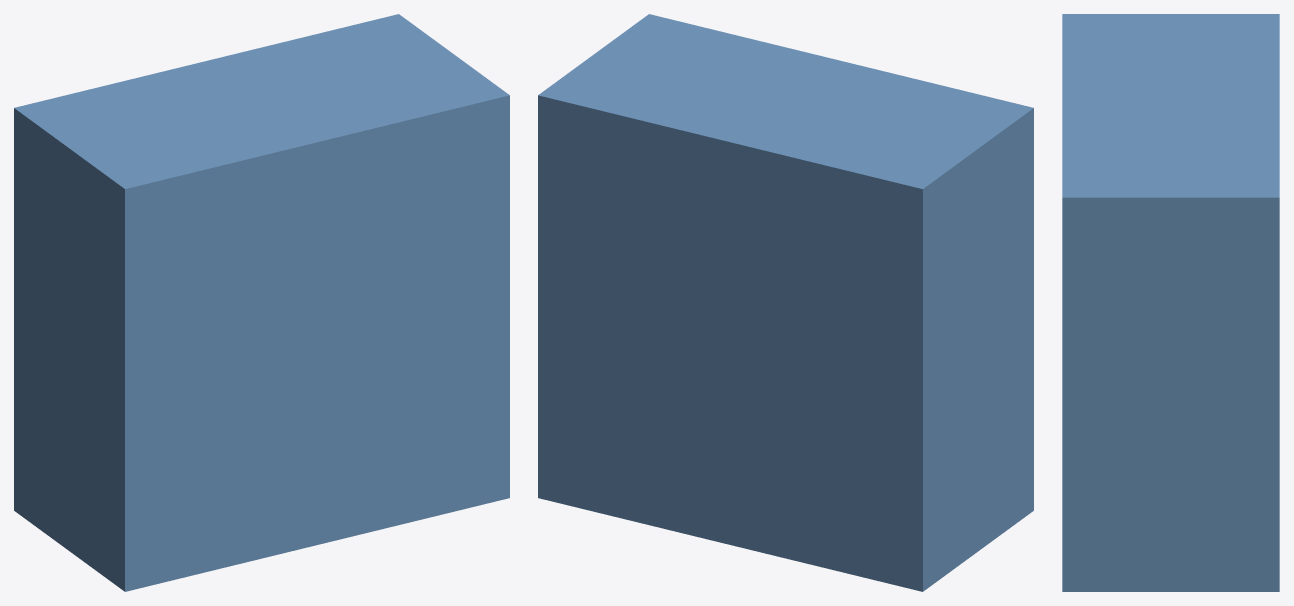
File: Spawn_VerticalSlab.glb
The picture shows the model from 3 angles, left to right: view 1: azimuth 30°, elevation 25°; view 2: azimuth 150°, elevation 25°; view 3: azimuth 270°, elevation 25°; orthographic projection. The views are drawn at different scales.
Visible parts, largest first — view 1: Spawn_VerticalSlab_body; view 2: Spawn_VerticalSlab_body; view 3: Spawn_VerticalSlab_body.
Part boxes in pixels (bbox=[...]): Spawn_VerticalSlab_body: bbox=[14, 14, 509, 591]; Spawn_VerticalSlab_body: bbox=[538, 14, 1033, 591]; Spawn_VerticalSlab_body: bbox=[1062, 14, 1279, 591].
Bounding box in the file's own units: 1 × 1 × 0.5.
